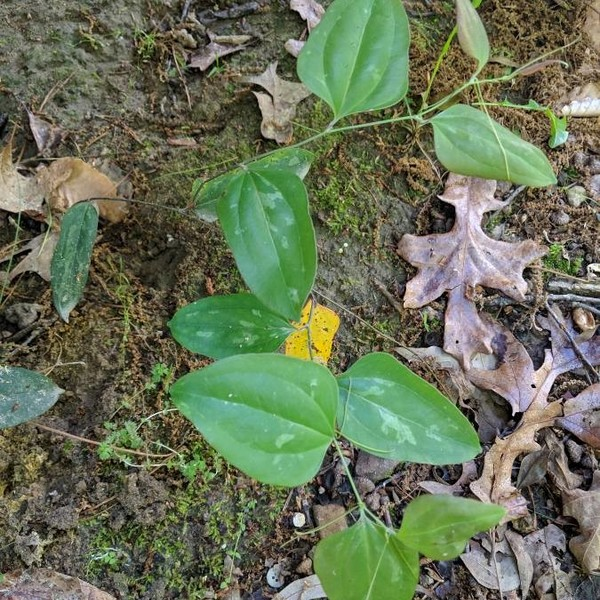obstacle: (177, 145, 460, 573), (276, 15, 551, 187)
